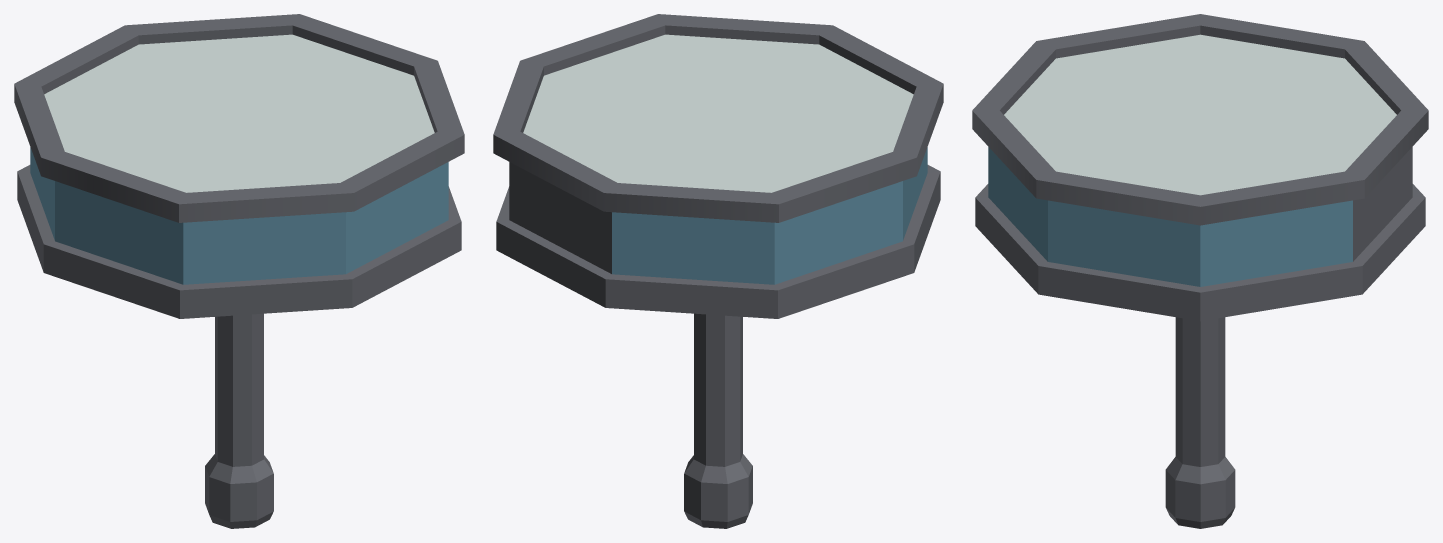
Rendered from DrumsetThin.fbx.
The picture shows the model from 3 angles, left to right: view 1: azimuth 30°, elevation 25°; view 2: azimuth 150°, elevation 25°; view 3: azimuth 270°, elevation 25°; orthographic projection.
Visible parts, largest first — view 1: Thin_Drum; view 2: Thin_Drum; view 3: Thin_Drum.
Boxes of the visible parts, bbox=[...] form: Thin_Drum: bbox=[14, 14, 464, 528]; Thin_Drum: bbox=[493, 14, 943, 528]; Thin_Drum: bbox=[972, 14, 1428, 528].
Bounding box in the file's own units: 47.92 × 46.96 × 47.92.
